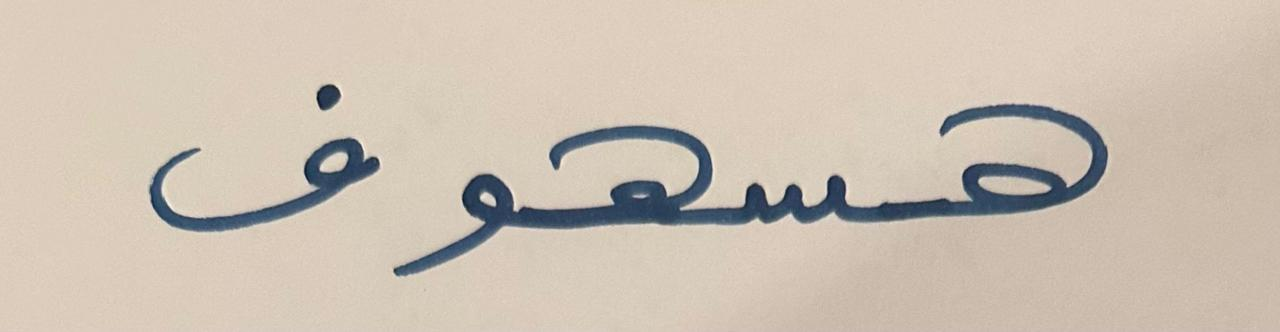feh: (114, 38, 385, 257)
jeem: (882, 33, 1155, 293), (536, 53, 720, 284)
sheen: (725, 85, 876, 287)
yeh: (388, 131, 531, 296)
